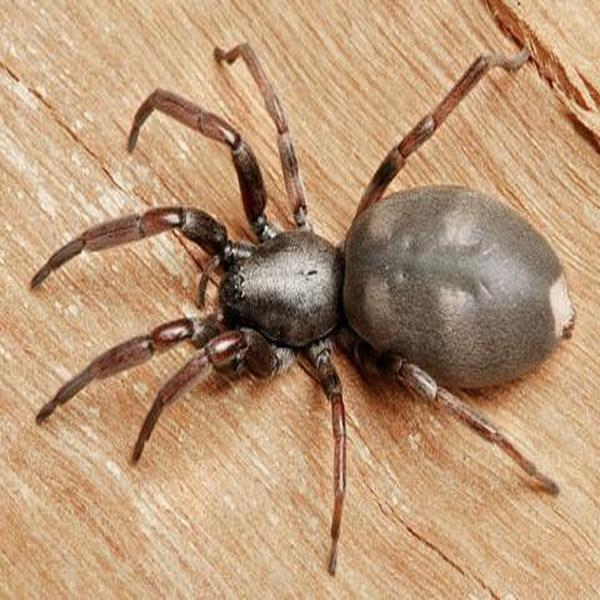White-Tailed Spider: (67, 49, 576, 531)
